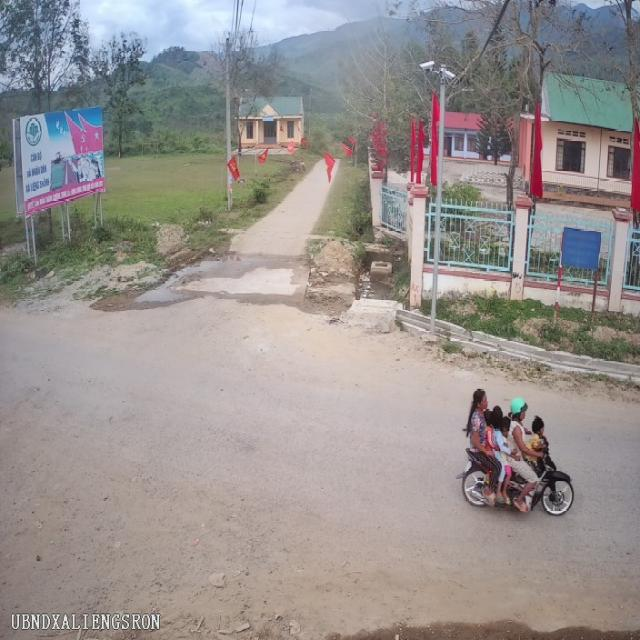with_helmet: (508, 391, 529, 421)
without_helmet: (468, 379, 490, 408)
